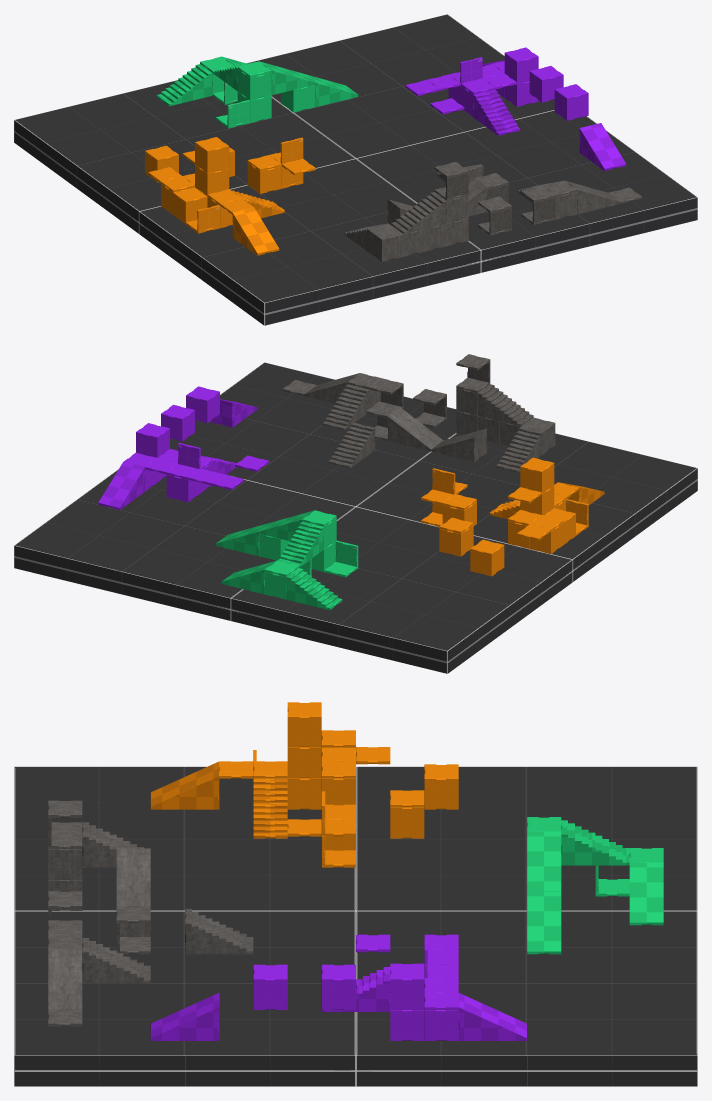
Rendered from test_environment.obj.
3 views of the same model, one above another, from view 1: azimuth 30°, elevation 25°; view 2: azimuth 150°, elevation 25°; view 3: azimuth 270°, elevation 25° (orthographic). The views are drawn at different scales.
Visible parts, largest first — view 1: test_environment; view 2: test_environment; view 3: test_environment.
Part boxes in pixels (x1,y1,x2,y2): test_environment: (14,14,697,325); test_environment: (14,354,697,673); test_environment: (14,702,697,1086).
Size of the model in its own units: 20 by 4.1 by 20.
12 materials, 12 textured.
